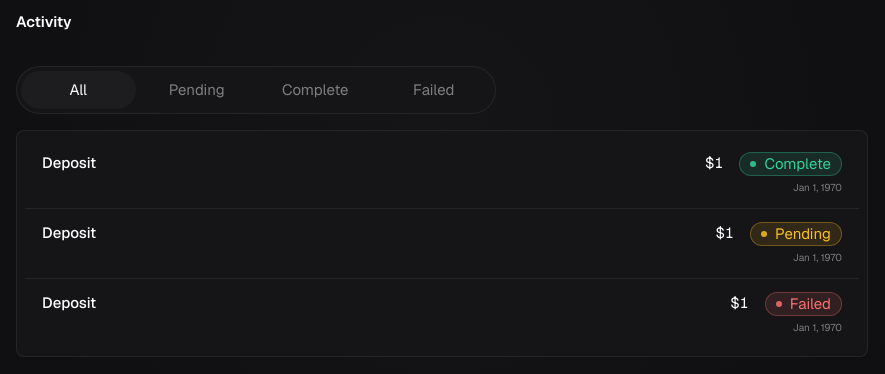
<History> › filters out non-pending records when Pending is selected
Click the tab "Pending": {"x": 197, "y": 90} [140,70,254,109]
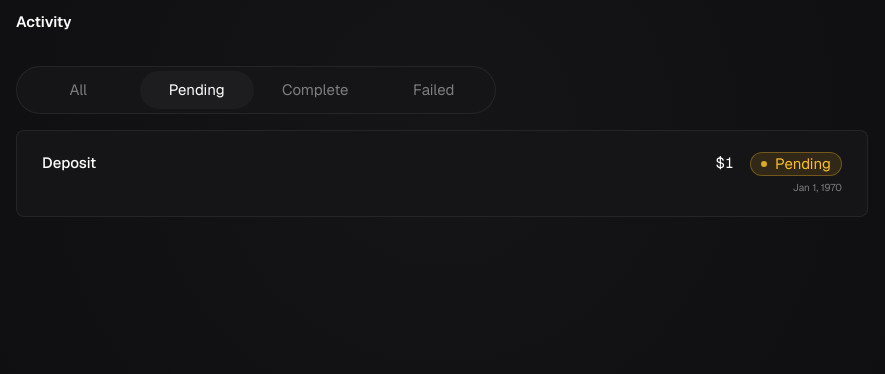
Expected: the number of messages is 1, [750,152,842,176]
